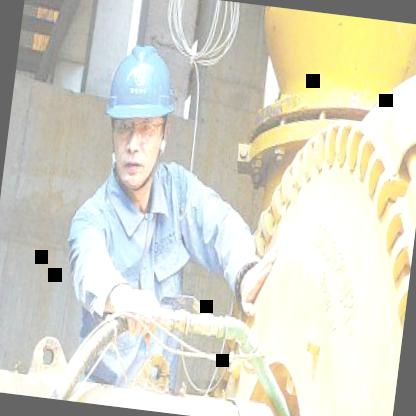helmet: (90, 28, 192, 198)
